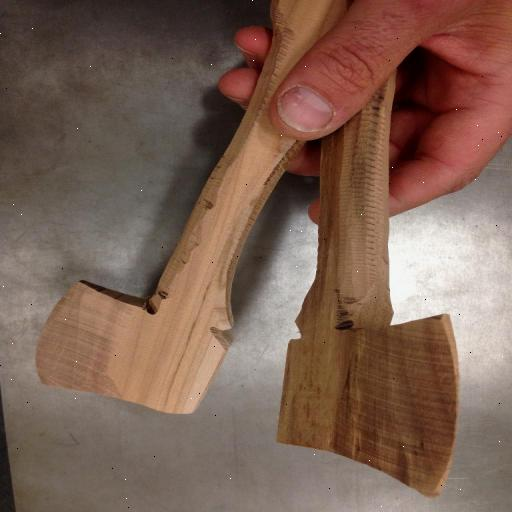Axe: (41, 0, 344, 416), (276, 9, 460, 504)
